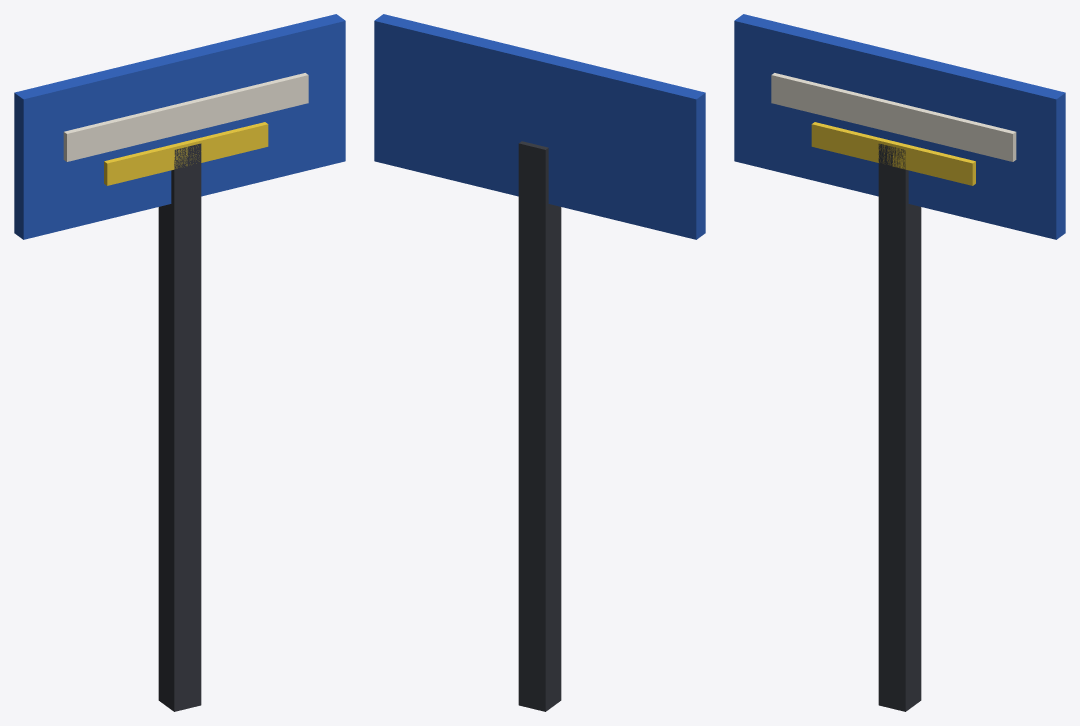
Rendered from garage_garage_sign.glb.
The picture shows the model from 3 angles, left to right: view 1: azimuth 30°, elevation 25°; view 2: azimuth 150°, elevation 25°; view 3: azimuth 330°, elevation 25°; orthographic projection.
Parts seen in each view (by area): view 1: garage_sign; view 2: garage_sign; view 3: garage_sign.
Part boxes in pixels (<box>): garage_sign: <box>14,14,345,711</box>; garage_sign: <box>374,14,705,711</box>; garage_sign: <box>734,14,1065,711</box>.
Size of the model in its own units: 1.2 by 2.3 by 0.1.
